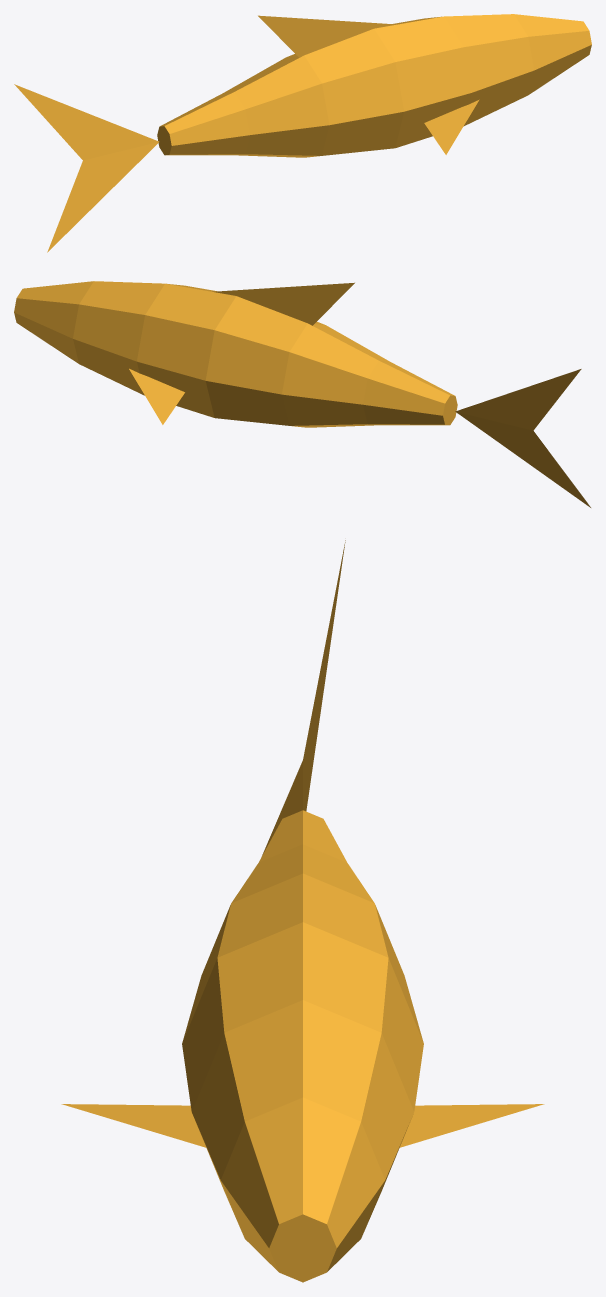
The model's file is koi.fbx.
3 views of the same model, one above another, from view 1: azimuth 30°, elevation 25°; view 2: azimuth 150°, elevation 25°; view 3: azimuth 270°, elevation 25° (orthographic). The views are drawn at different scales.
Visible parts, largest first — view 1: Koi_Gold; view 2: Koi_Gold; view 3: Koi_Gold.
Part boxes in pixels (box(x1,y1,x2,y2)): Koi_Gold: box(14, 14, 591, 252); Koi_Gold: box(14, 281, 590, 507); Koi_Gold: box(61, 540, 544, 1282).
Bounding box in the file's own units: 2.4 × 0.72 × 0.9.
